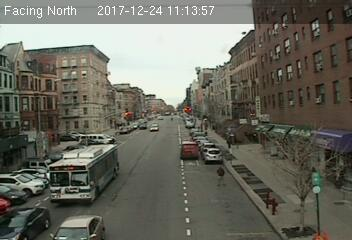bus: (47, 144, 120, 203)
car: (1, 202, 49, 239), (45, 213, 103, 240), (179, 140, 198, 160), (202, 147, 224, 163)
pedestrian: (215, 165, 228, 189)
